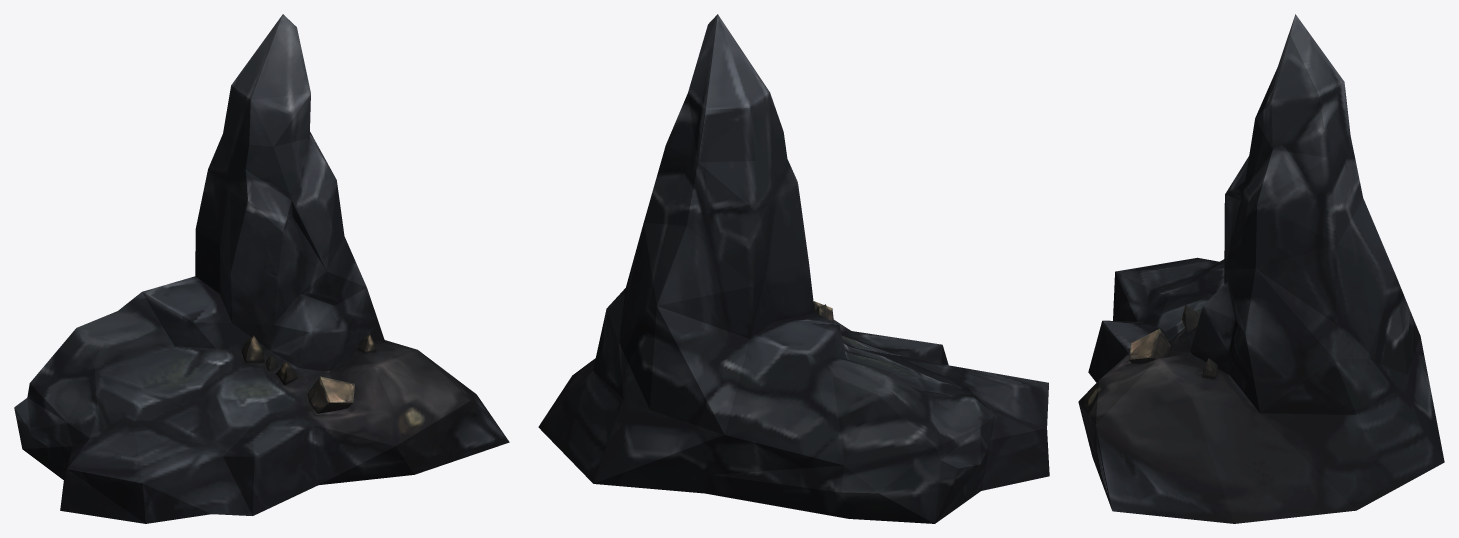
Rendered from Mine_shitou02.FBX.
The picture shows the model from 3 angles, left to right: view 1: azimuth 30°, elevation 25°; view 2: azimuth 150°, elevation 25°; view 3: azimuth 270°, elevation 25°; orthographic projection. The views are drawn at different scales.
Visible parts, largest first — view 1: shitou02; view 2: shitou02; view 3: shitou02.
Part boxes in pixels (left/top/right/bottom): shitou02: left=14, top=14, right=509, bottom=523; shitou02: left=538, top=14, right=1049, bottom=523; shitou02: left=1078, top=14, right=1444, bottom=523.
Bounding box in the file's own units: 212 × 188 × 147.
